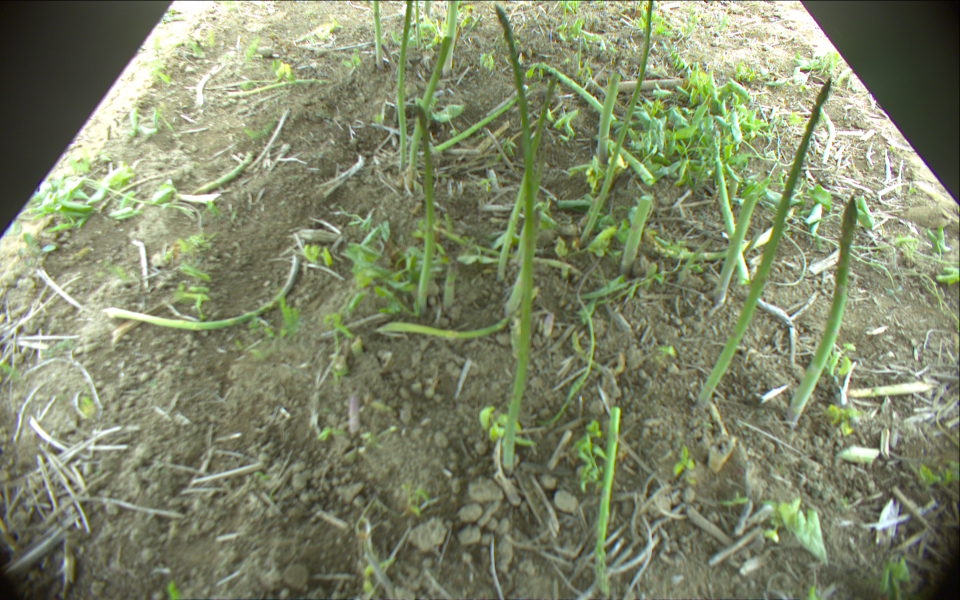aspa: (697, 82, 831, 413), (495, 5, 536, 476), (578, 1, 653, 245), (786, 195, 855, 426), (104, 254, 300, 330), (497, 74, 560, 277), (657, 207, 795, 257), (408, 36, 450, 194), (715, 127, 751, 286), (433, 93, 522, 152), (594, 406, 622, 592), (529, 63, 617, 122), (415, 101, 436, 313), (504, 206, 544, 316), (592, 134, 655, 185), (397, 1, 414, 170), (619, 194, 654, 274), (379, 318, 510, 336), (192, 156, 250, 195), (596, 72, 620, 166), (224, 79, 333, 95), (442, 1, 458, 76), (442, 261, 457, 314), (373, 1, 382, 68), (382, 45, 396, 71), (415, 1, 422, 48)
